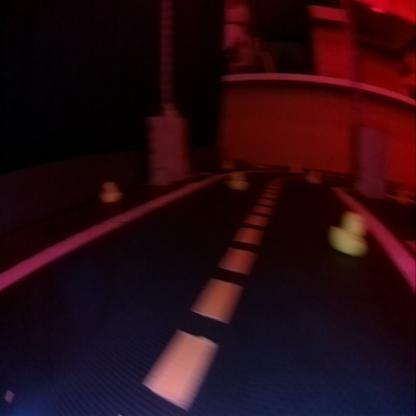Duckie: (328, 213, 366, 257), (100, 180, 120, 202), (227, 172, 246, 189)
